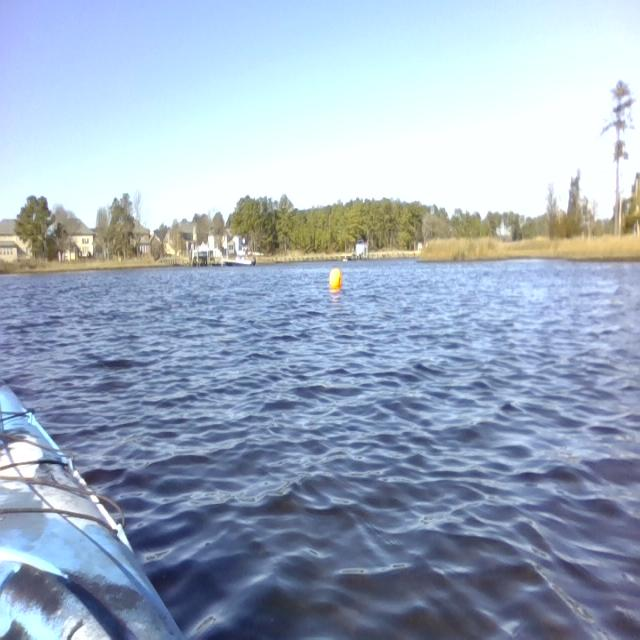Buoy: (328, 265, 343, 293)
